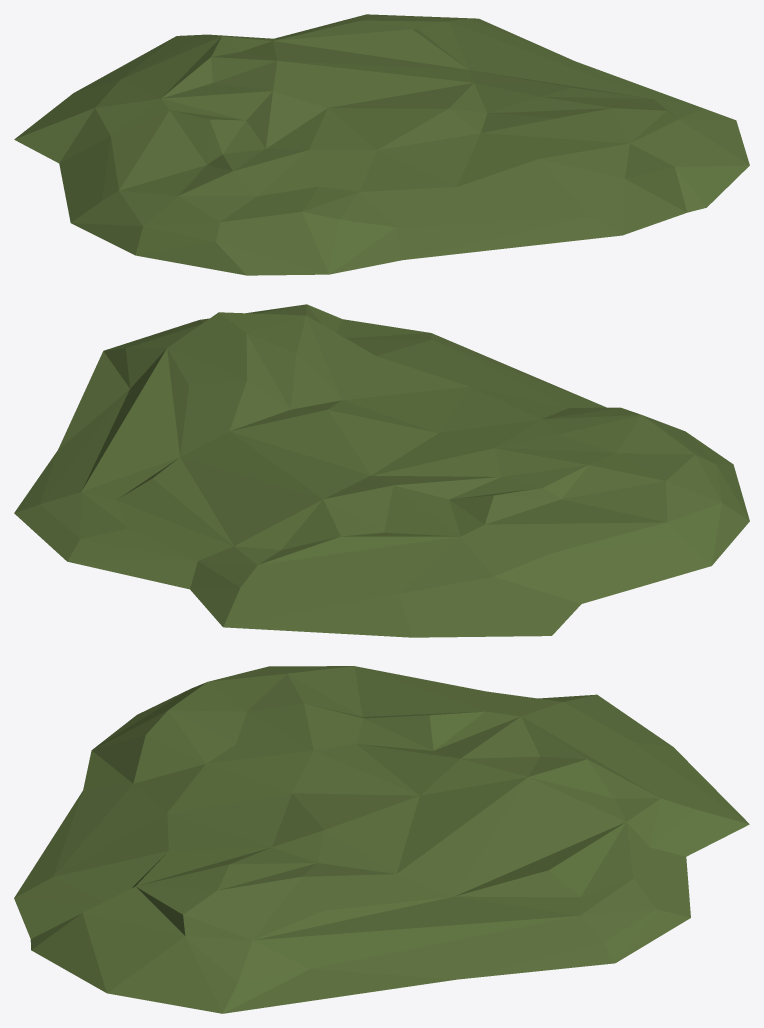
The model's file is SM_Env_GrassPatch_01.glb.
The picture shows the model from 3 angles, top to bottom: view 1: azimuth 30°, elevation 25°; view 2: azimuth 150°, elevation 25°; view 3: azimuth 270°, elevation 25°; orthographic projection. The views are drawn at different scales.
Visible parts, largest first — view 1: SM_Env_GrassPatch_01_part00; view 2: SM_Env_GrassPatch_01_part00; view 3: SM_Env_GrassPatch_01_part00.
Boxes of the visible parts, left/top/right/bottom form: SM_Env_GrassPatch_01_part00: left=14, top=14, right=749, bottom=275; SM_Env_GrassPatch_01_part00: left=14, top=304, right=749, bottom=637; SM_Env_GrassPatch_01_part00: left=14, top=666, right=749, bottom=1013.
Bounding box in the file's own units: 2.65 × 0.1864 × 2.39.
1 material, 1 textured.
